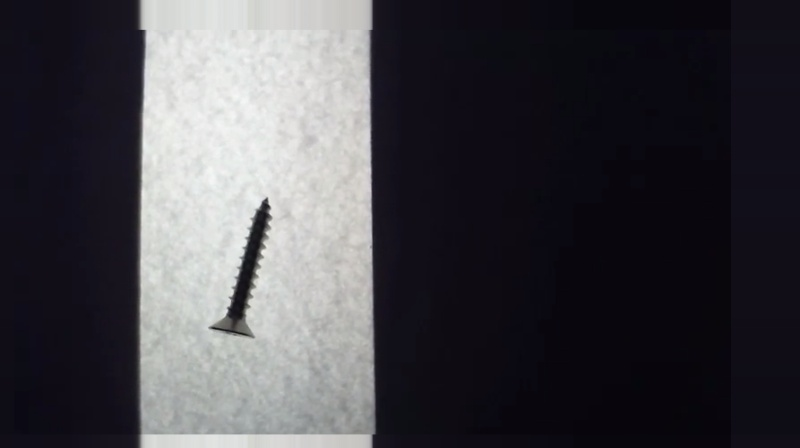S001: (204, 193, 274, 341)
